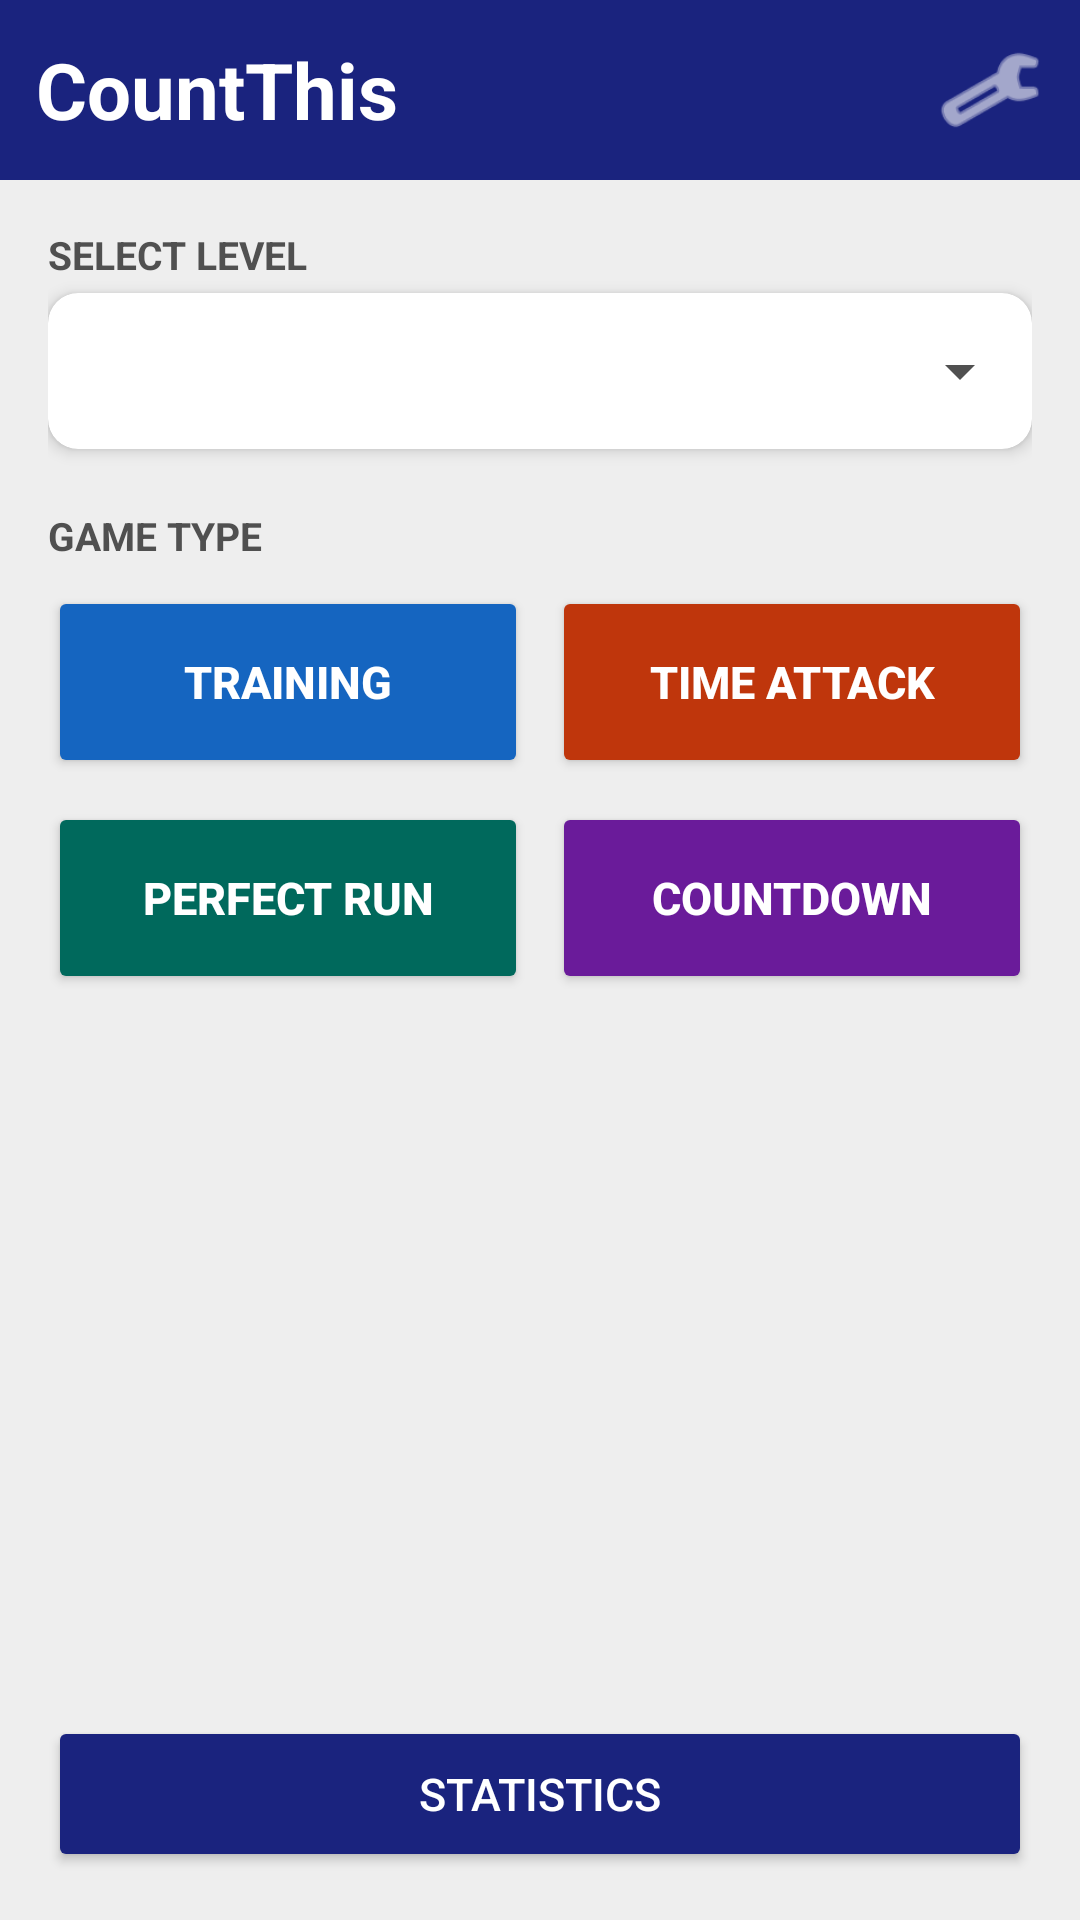

Icon click points for this 1080 x 1920 phone screenshot, format (x,y):
Settings: (990,90)
